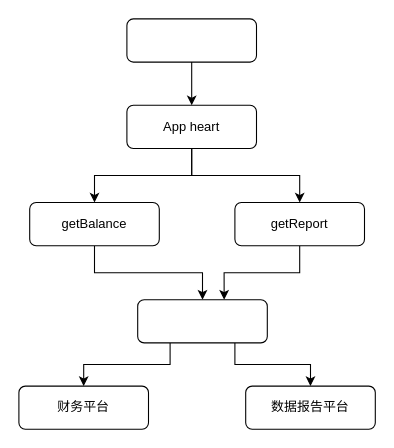
The diagram is 394 pixels wide and 448 high, and some of its shapes have lost their labels. Here are the shapes that lost their labels. From the top down, the box of each, then its label:
(126, 18, 256, 62): mcc首页接口
(137, 299, 267, 343): 一站式
